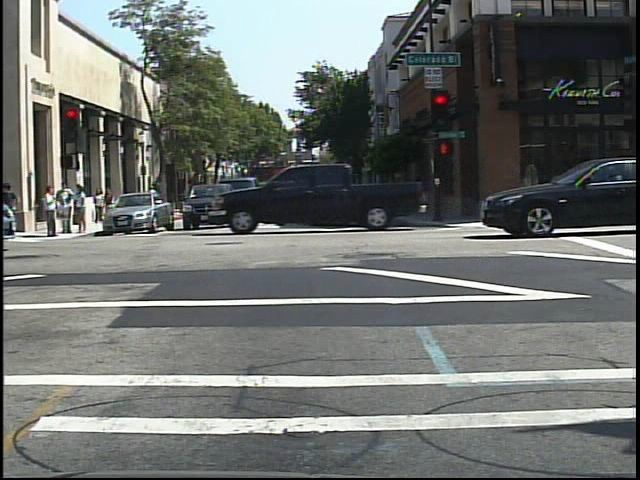person: (146, 180, 164, 220), (93, 186, 108, 227), (146, 181, 162, 214)
